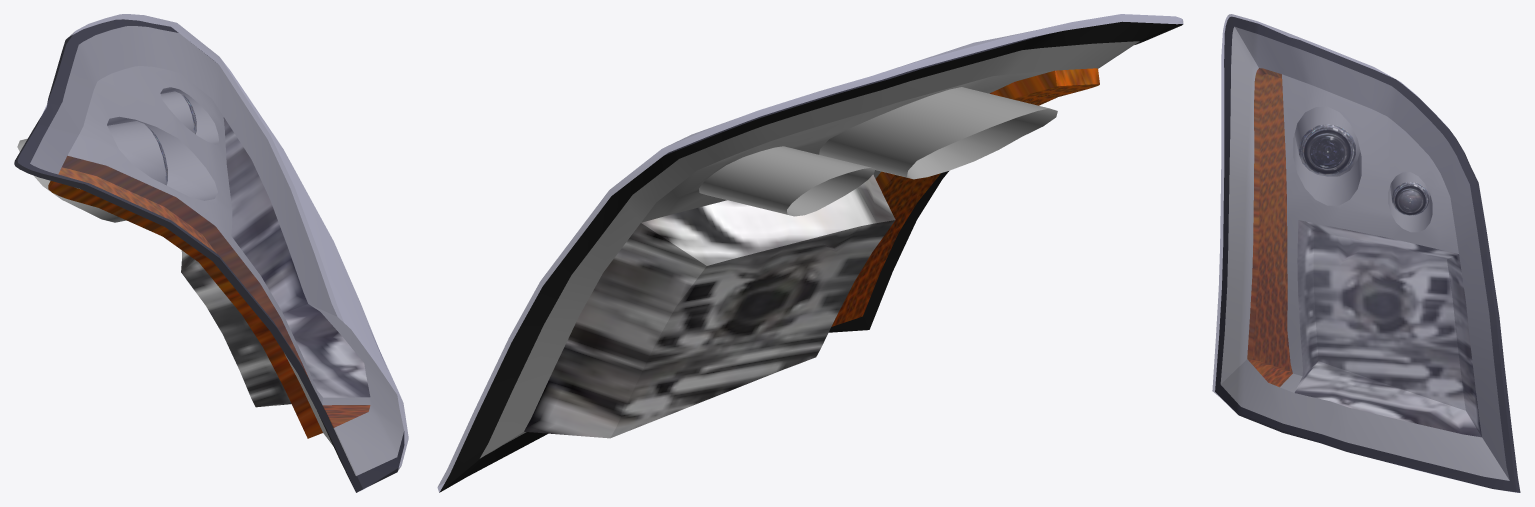
The picture shows the model from 3 angles, left to right: view 1: azimuth 30°, elevation 25°; view 2: azimuth 150°, elevation 25°; view 3: azimuth 270°, elevation 25°; orthographic projection. The views are drawn at different scales.
Visible parts, largest first — view 1: Z177_061B_R_Z177_061B_R_7_DTaSI, Z177_061B_R_1_N_Z177_061B_R, Z177_061B_R_Z177_061B_R_3_N, Z177_061B_R_Z177_061B_R_6_N, Z177_061B_R_Z177_061B_R_2_D; view 2: Z177_061B_R_Z177_061B_R_3_N, Z177_061B_R_1_N_Z177_061B_R, Z177_061B_R_Z177_061B_R_2_D, Z177_061B_R_Z177_061B_R_7_DTaSI, Z177_061B_R_Z177_061B_R_6_N; view 3: Z177_061B_R_Z177_061B_R_7_DTaSI, Z177_061B_R_1_N_Z177_061B_R, Z177_061B_R_Z177_061B_R_3_N, Z177_061B_R_Z177_061B_R_2_D, Z177_061B_R_Z177_061B_R_6_N, Z177_061B_R_Z177_061B_R_5_N, Z177_061B_R_Z177_061B_R_4_N.
Part boxes in pixels (x1,y1,x2,y2): Z177_061B_R_Z177_061B_R_7_DTaSI: [14, 14, 408, 492]; Z177_061B_R_1_N_Z177_061B_R: [17, 26, 403, 475]; Z177_061B_R_Z177_061B_R_3_N: [181, 117, 370, 407]; Z177_061B_R_Z177_061B_R_6_N: [48, 156, 370, 438]; Z177_061B_R_Z177_061B_R_2_D: [14, 19, 404, 492]; Z177_061B_R_Z177_061B_R_3_N: [524, 174, 895, 438]; Z177_061B_R_1_N_Z177_061B_R: [480, 41, 1139, 458]; Z177_061B_R_Z177_061B_R_2_D: [439, 21, 1182, 492]; Z177_061B_R_Z177_061B_R_7_DTaSI: [437, 14, 1183, 492]; Z177_061B_R_Z177_061B_R_6_N: [831, 68, 1099, 326]; Z177_061B_R_Z177_061B_R_7_DTaSI: [1212, 14, 1520, 492]; Z177_061B_R_1_N_Z177_061B_R: [1220, 27, 1509, 480]; Z177_061B_R_Z177_061B_R_3_N: [1295, 220, 1481, 437]; Z177_061B_R_Z177_061B_R_2_D: [1215, 16, 1520, 492]; Z177_061B_R_Z177_061B_R_6_N: [1247, 68, 1292, 386]; Z177_061B_R_Z177_061B_R_5_N: [1299, 124, 1355, 176]; Z177_061B_R_Z177_061B_R_4_N: [1392, 181, 1429, 215].
Size of the model in its own units: 39.65 by 32.33 by 29.12.
